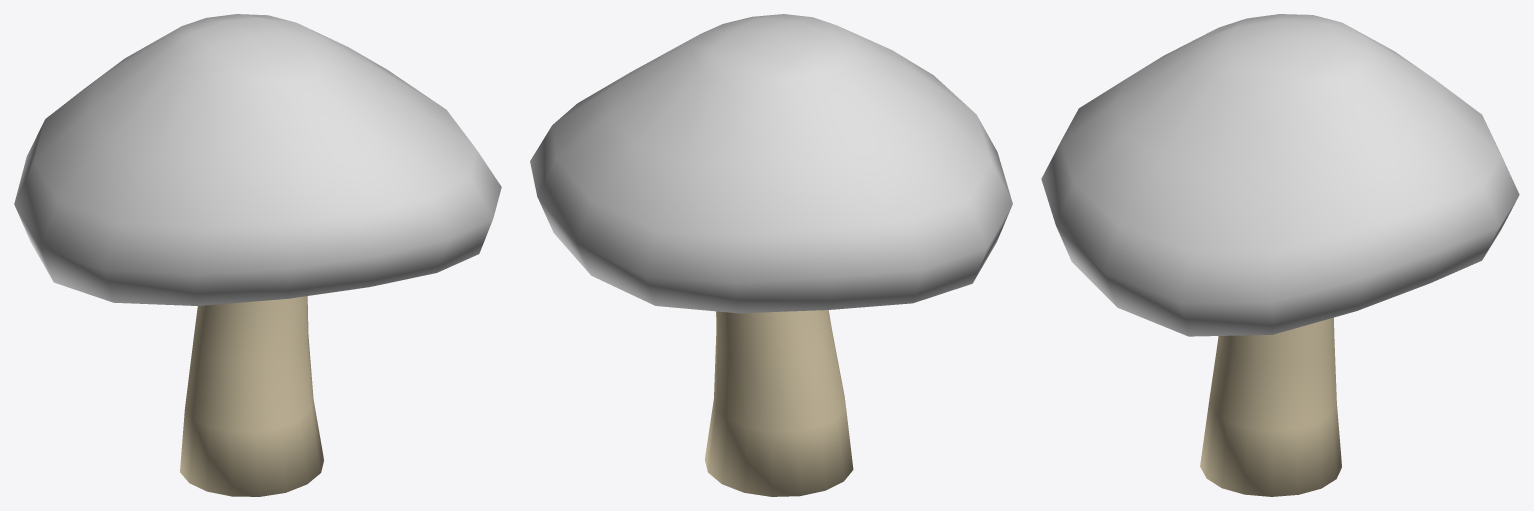
File: きのこ6_5.glb
3 renders of one model, left to right at view 1: azimuth 30°, elevation 25°; view 2: azimuth 150°, elevation 25°; view 3: azimuth 270°, elevation 25°, orthographic. The views are drawn at different scales.
Parts seen in each view (by area): view 1: Sphere, Circle; view 2: Sphere, Circle; view 3: Sphere, Circle.
Part boxes in pixels (x1,y1,x2,y2): Sphere: (14, 14, 501, 305); Circle: (180, 296, 323, 496); Sphere: (530, 14, 1012, 313); Circle: (704, 310, 853, 496); Sphere: (1041, 14, 1519, 336); Circle: (1200, 317, 1341, 496).
Size of what is drawn, in the model's own units: 2.1 by 2.11 by 2.02.
